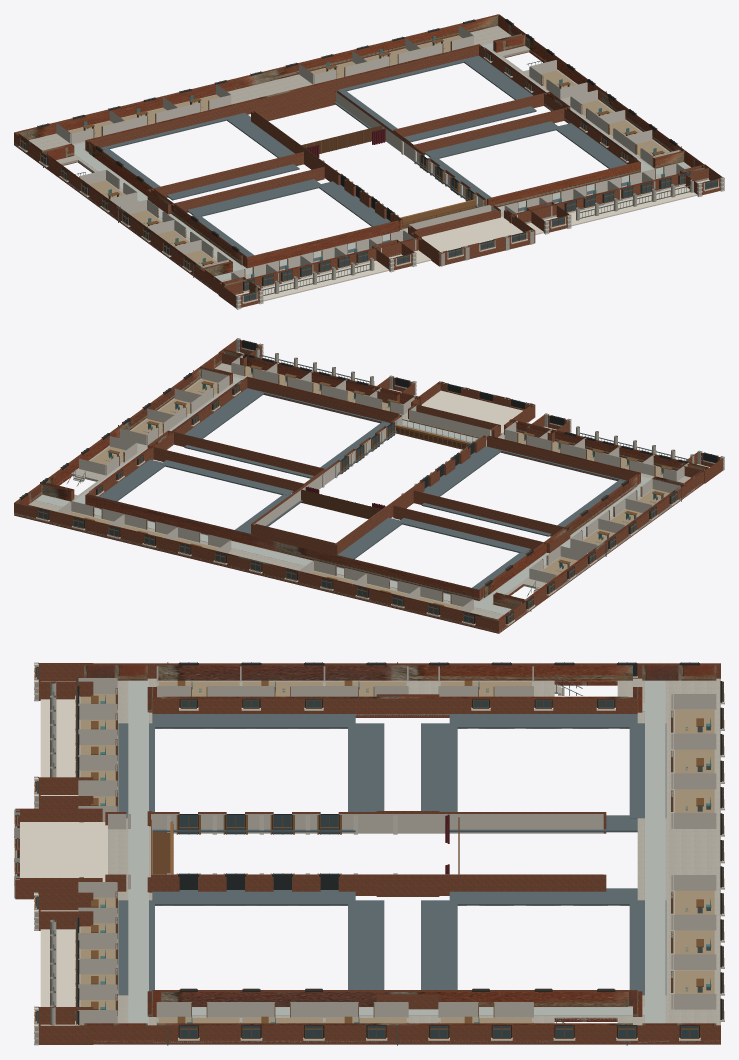
The model's file is hku-main-building-2f-cutaway-v5.glb.
The picture shows the model from 3 angles, top to bottom: view 1: azimuth 30°, elevation 25°; view 2: azimuth 150°, elevation 25°; view 3: azimuth 270°, elevation 25°; orthographic projection. The views are drawn at different scales.
Parts seen in each view (by area): view 1: Arcade roof cutaway, Rear accommodation cutaway, Side accommodation cutaway, Front accommodation cutaway, Transverse connector cutaway, 2F room floor cutaway, Verandah floor slabs cutaway, 2F rear partitions cutaway, 2F side divisions cutaway, 2F rear floor cutaway, 2F front partitions cutaway, Hall loadbearing wall cutaway (+25 smaller); view 2: Rear accommodation cutaway, Arcade roof cutaway, Front accommodation cutaway, Side accommodation cutaway, Transverse connector cutaway, 2F room floor cutaway, 2F side divisions cutaway, 2F front partitions cutaway, 2F rear partitions cutaway, Hall loadbearing wall cutaway, 2F rear floor cutaway, 2F side partitions cutaway (+23 smaller); view 3: Arcade roof cutaway, Side accommodation cutaway, 2F room floor cutaway, 2F rear floor cutaway, 2F side partitions cutaway, Hall loadbearing wall cutaway, 2F corridor rear cutaway, 2F corridor front cutaway, Hall plaster lining cutaway, Pavilion piers cutaway, 2F front divisions cutaway, 2F rear divisions cutaway (+18 smaller).
Part boxes in pixels (x1=…): Arcade roof cutaway: x1=101, y1=55, x2=628, y2=269; Rear accommodation cutaway: x1=14, y1=14, x2=525, y2=164; Side accommodation cutaway: x1=41, y1=34, x2=684, y2=280; Front accommodation cutaway: x1=200, y1=150, x2=708, y2=294; Transverse connector cutaway: x1=147, y1=91, x2=570, y2=214; 2F room floor cutaway: x1=68, y1=35, x2=675, y2=278; Verandah floor slabs cutaway: x1=216, y1=179, x2=709, y2=301; 2F rear partitions cutaway: x1=71, y1=36, x2=473, y2=143; 2F side divisions cutaway: x1=79, y1=60, x2=679, y2=267; 2F rear floor cutaway: x1=14, y1=26, x2=511, y2=156; 2F front partitions cutaway: x1=232, y1=163, x2=676, y2=277; Hall loadbearing wall cutaway: x1=251, y1=90, x2=500, y2=235; Rear accommodation cutaway: x1=14, y1=483, x2=526, y2=633; Arcade roof cutaway: x1=94, y1=388, x2=625, y2=601; Front accommodation cutaway: x1=200, y1=349, x2=708, y2=497; Side accommodation cutaway: x1=41, y1=367, x2=684, y2=613; Transverse connector cutaway: x1=147, y1=430, x2=570, y2=553; 2F room floor cutaway: x1=68, y1=366, x2=676, y2=609; 2F side divisions cutaway: x1=79, y1=369, x2=679, y2=582; 2F front partitions cutaway: x1=231, y1=363, x2=676, y2=481; 2F rear partitions cutaway: x1=71, y1=501, x2=473, y2=608; Hall loadbearing wall cutaway: x1=251, y1=404, x2=500, y2=554; 2F rear floor cutaway: x1=14, y1=494, x2=525, y2=632; 2F side partitions cutaway: x1=106, y1=375, x2=652, y2=578; Arcade roof cutaway: x1=118, y1=714, x2=666, y2=995; Side accommodation cutaway: x1=152, y1=663, x2=637, y2=1044; 2F room floor cutaway: x1=80, y1=681, x2=714, y2=1023; 2F rear floor cutaway: x1=637, y1=678, x2=720, y2=1042; 2F side partitions cutaway: x1=157, y1=686, x2=533, y2=1017; Hall loadbearing wall cutaway: x1=105, y1=812, x2=606, y2=895; 2F corridor rear cutaway: x1=645, y1=680, x2=665, y2=1023; 2F corridor front cutaway: x1=128, y1=680, x2=148, y2=1025; Hall plaster lining cutaway: x1=108, y1=814, x2=603, y2=874; Pavilion piers cutaway: x1=38, y1=663, x2=93, y2=1044; 2F front divisions cutaway: x1=78, y1=678, x2=116, y2=1025; 2F rear divisions cutaway: x1=673, y1=694, x2=716, y2=1009.
Bounding box in the file's own units: 82.75 × 2.05 × 68.12.
15 materials, 2 textured.
